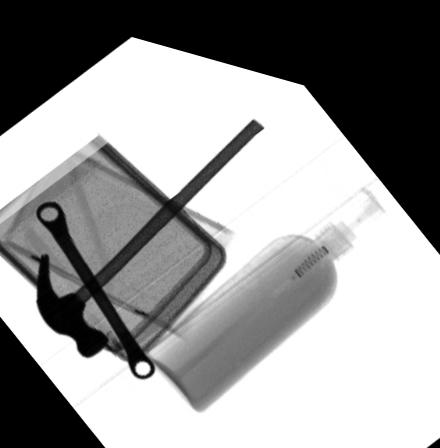Hammer: (35, 100, 265, 352)
Wrench: (34, 197, 155, 371)
